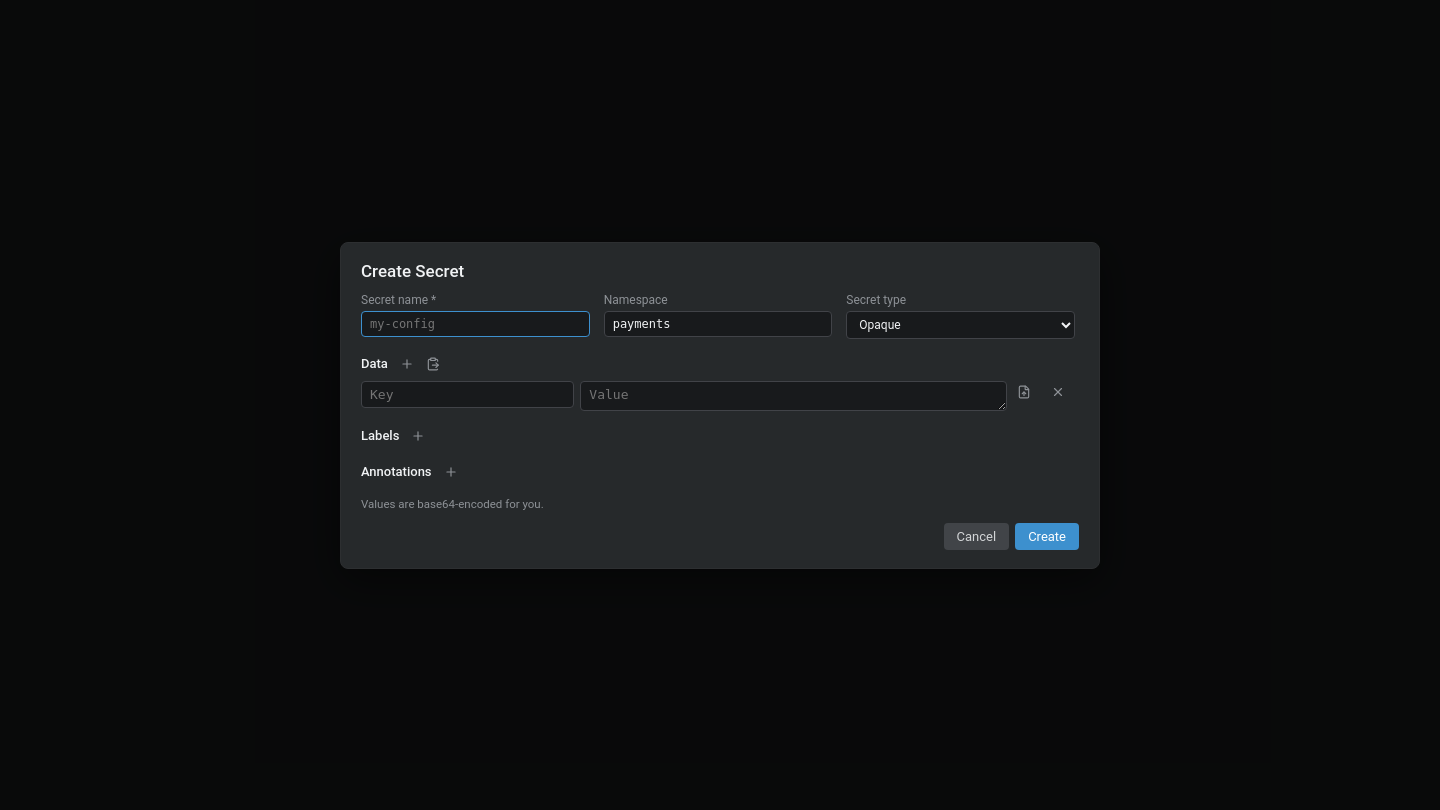
Test: Create Secret › does not create with an invalid name or duplicate keys
This screenshot has width=1440, height=810.
Type "Bad_Name" into the field with placeholder "my-config" at (475, 324), box top-left (361, 310), bottom-right (590, 336)
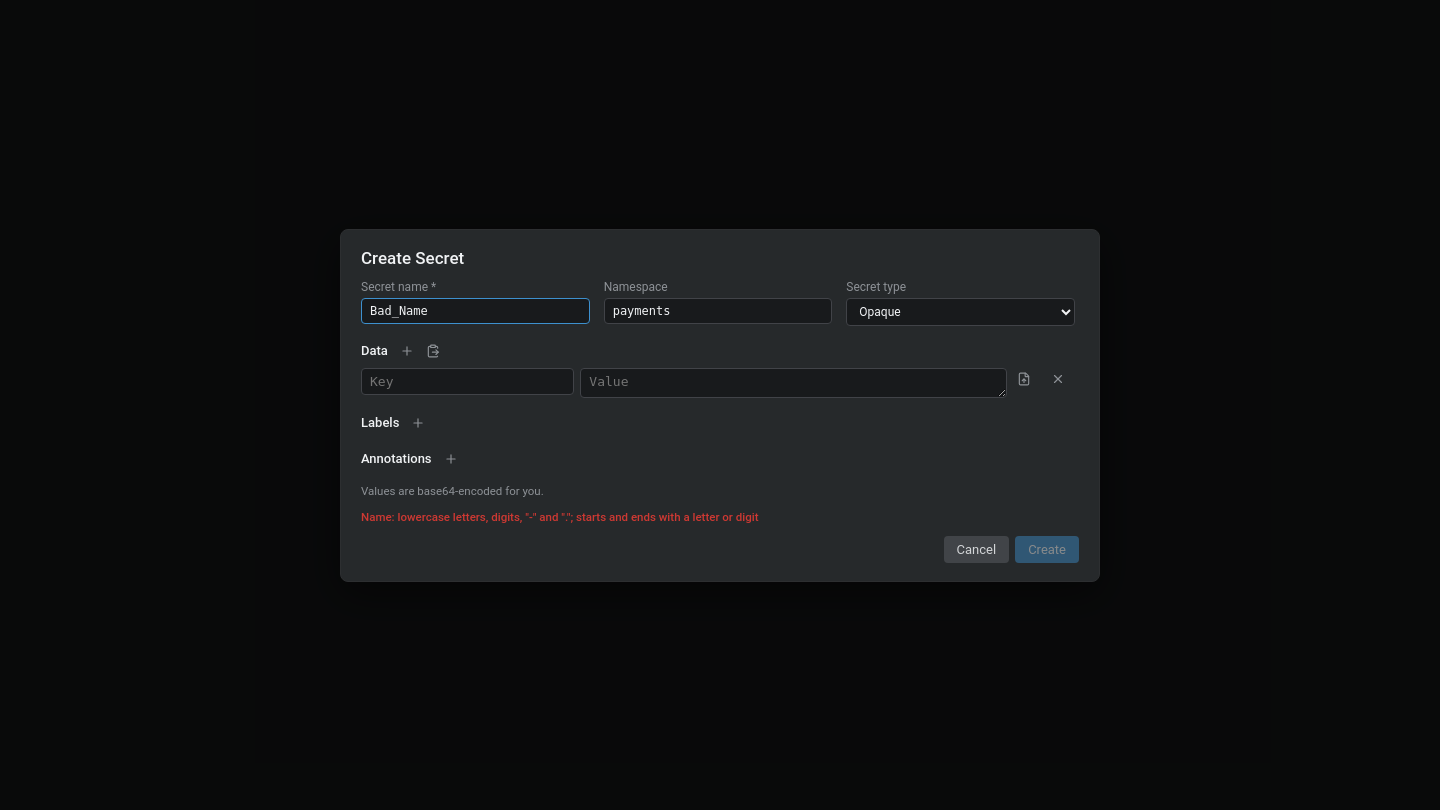
Expected: the text "Name: lowercase letters" is shown, top-left (361, 510), bottom-right (758, 524)
Replace the text in the field with placeholder "my-config" with "good" at (475, 310), box top-left (361, 298), bottom-right (590, 324)
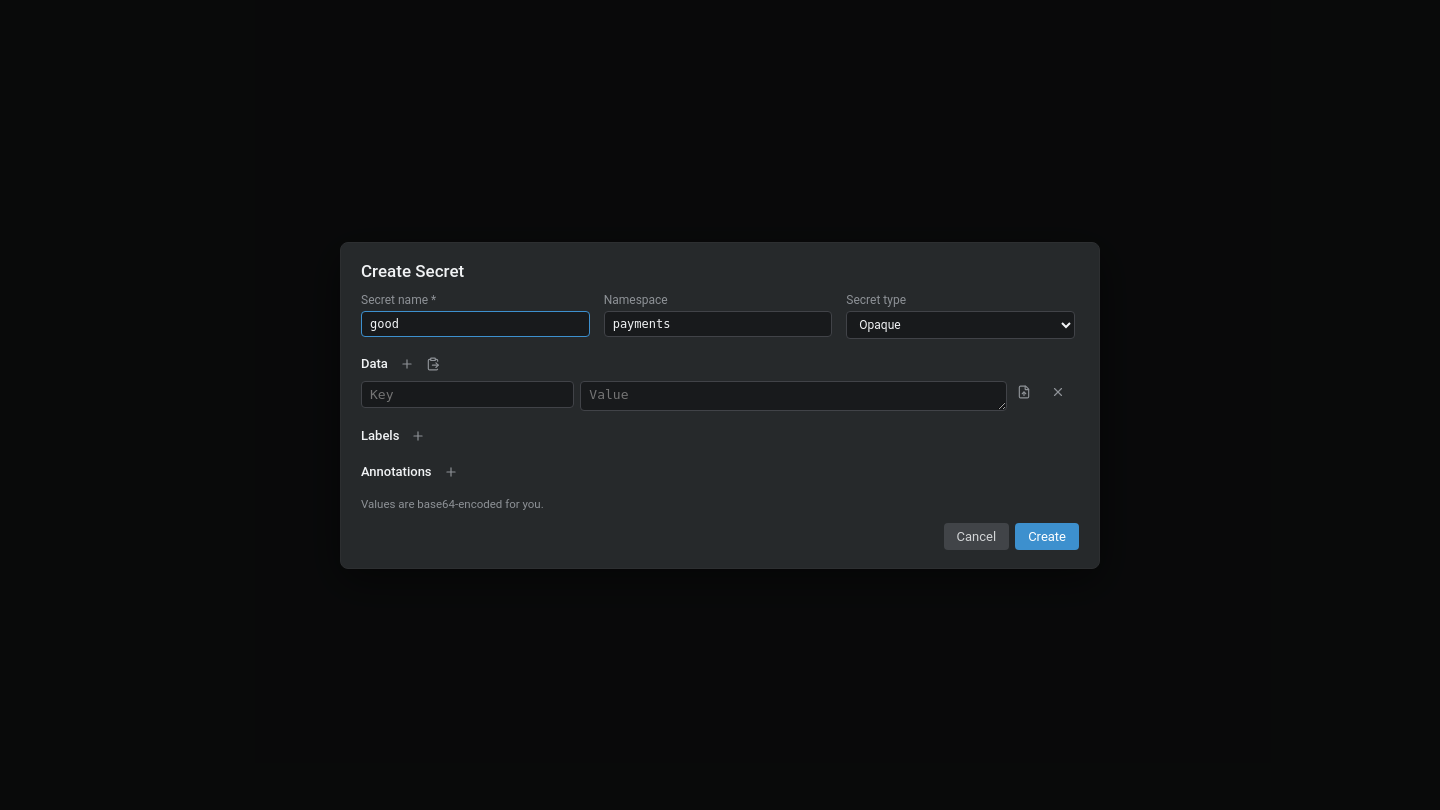
Type "A" into the field with placeholder "Key" at (468, 394), box top-left (361, 380), bottom-right (574, 408)
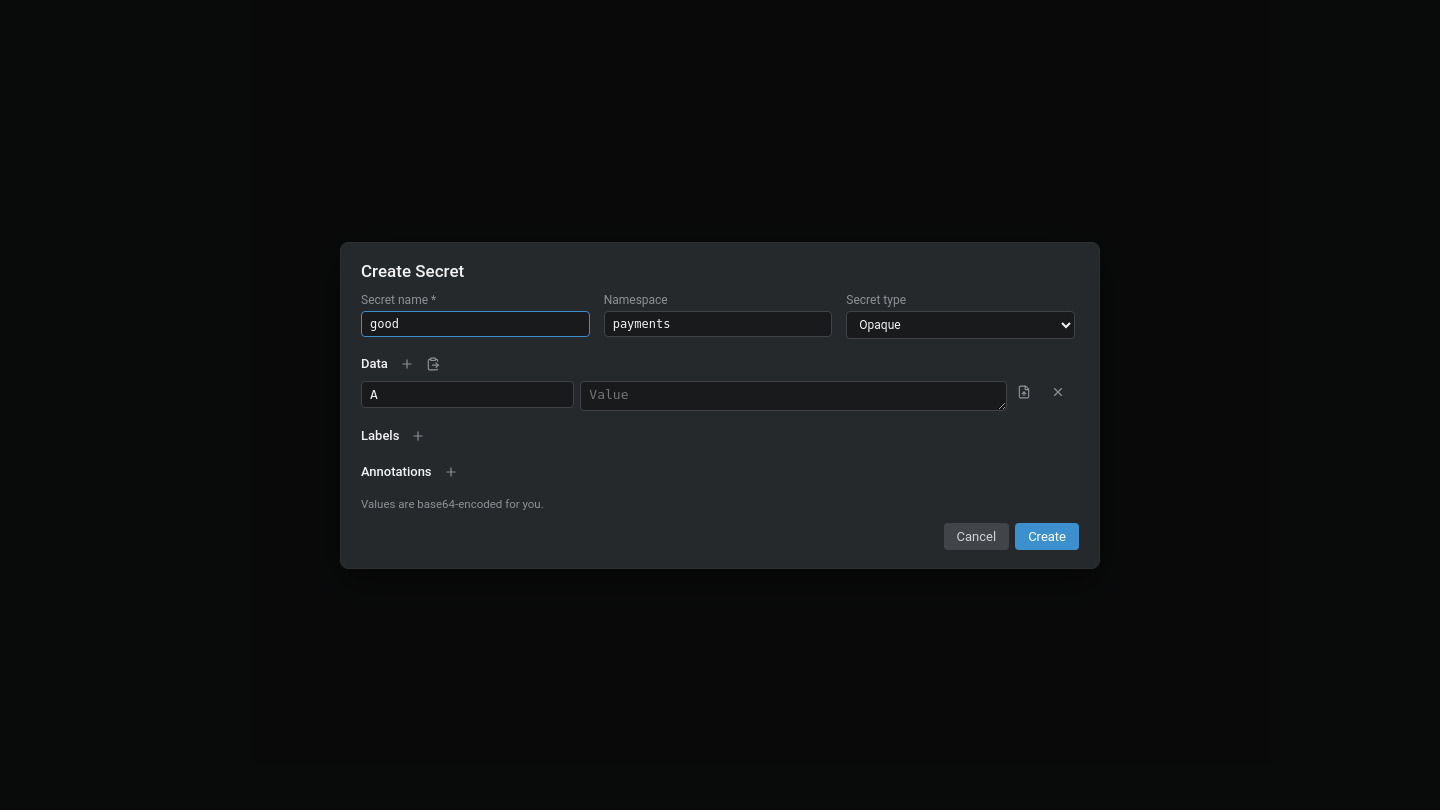
Click the button titled "Add data entry" at (407, 364), box top-left (396, 352), bottom-right (418, 374)
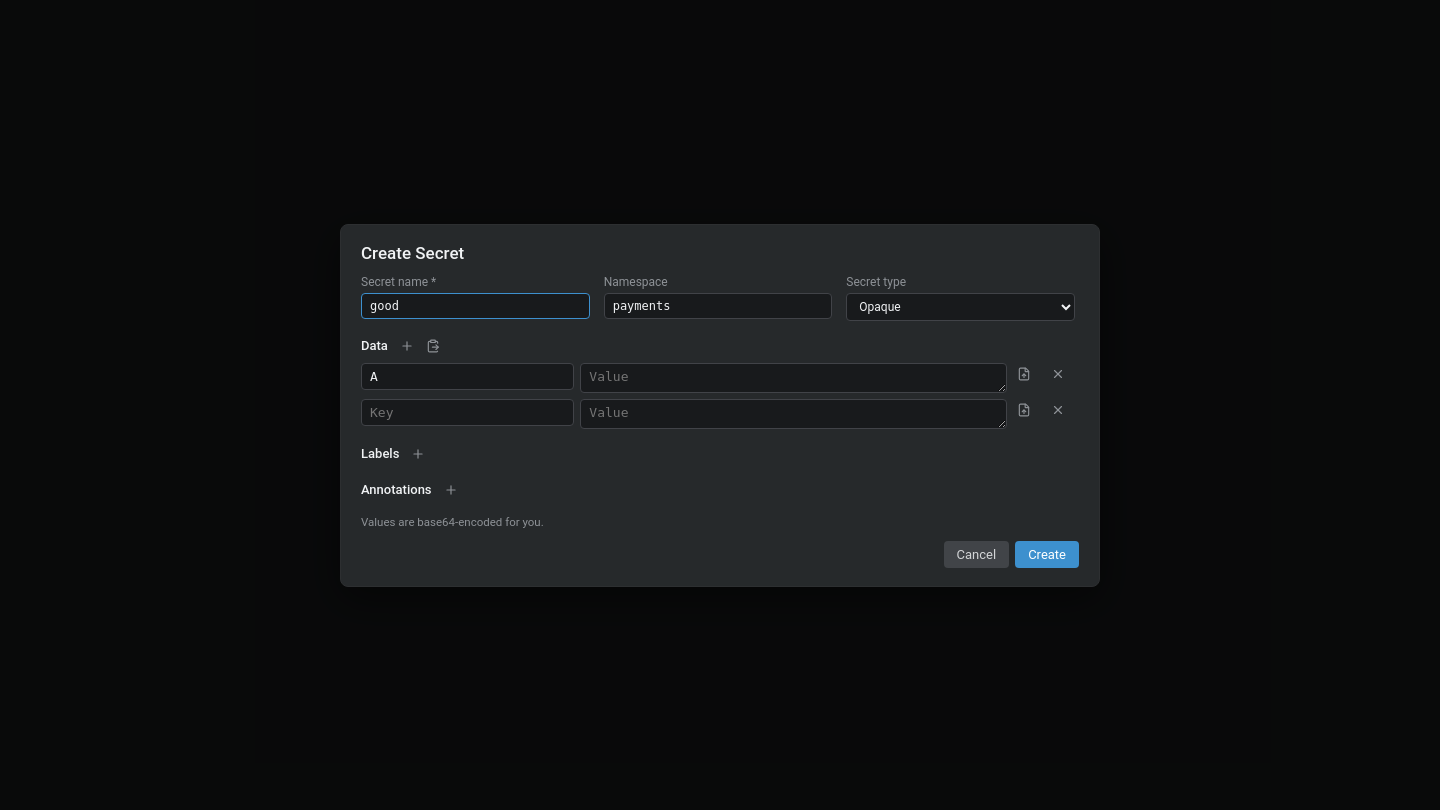
Type "A" into the field with placeholder "Key" at (468, 412), box top-left (361, 398), bottom-right (574, 426)
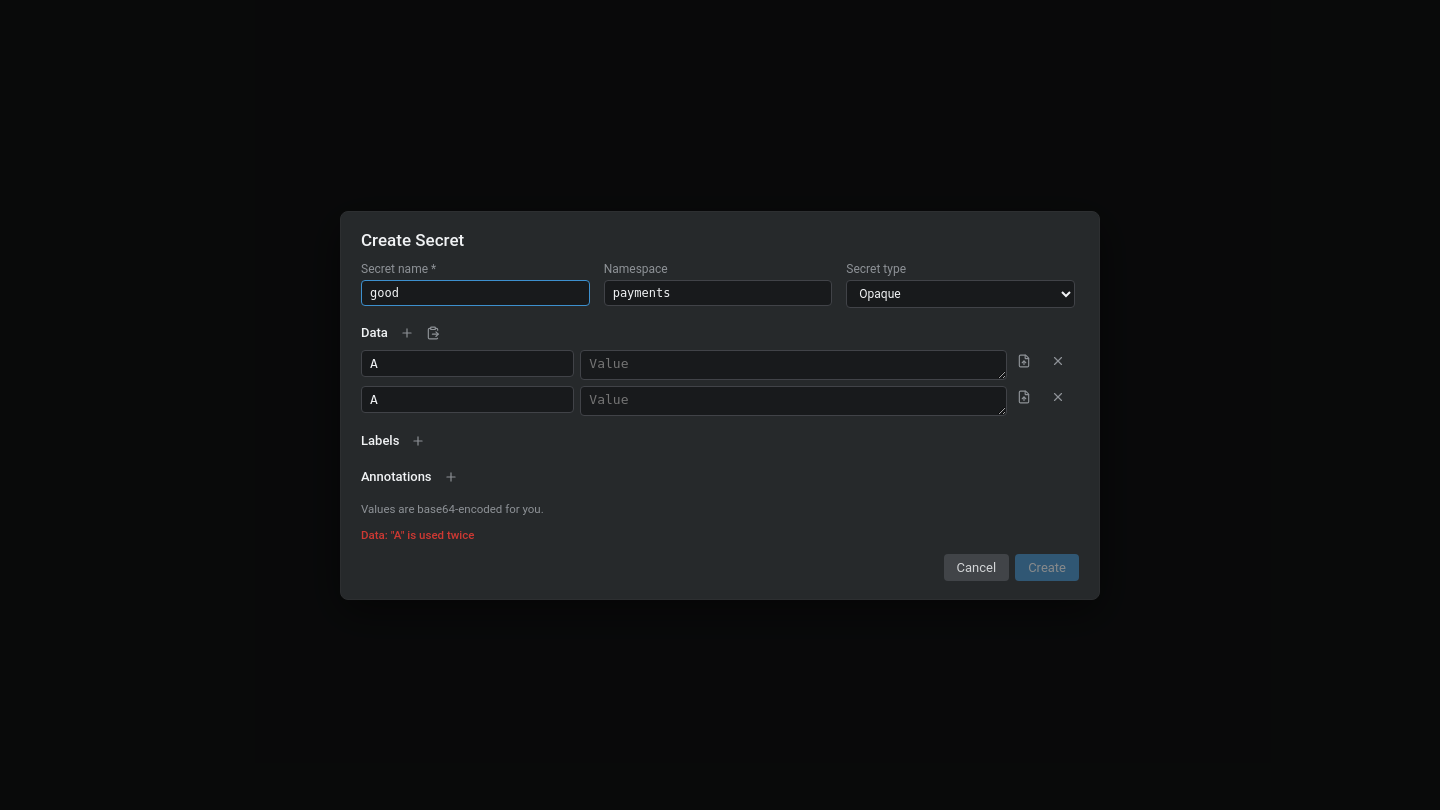
Expected: the text "Data: \"A\" is used twice" is shown, top-left (361, 528), bottom-right (474, 542)
Expected: the button "Create" is disabled, top-left (1015, 554), bottom-right (1079, 580)
